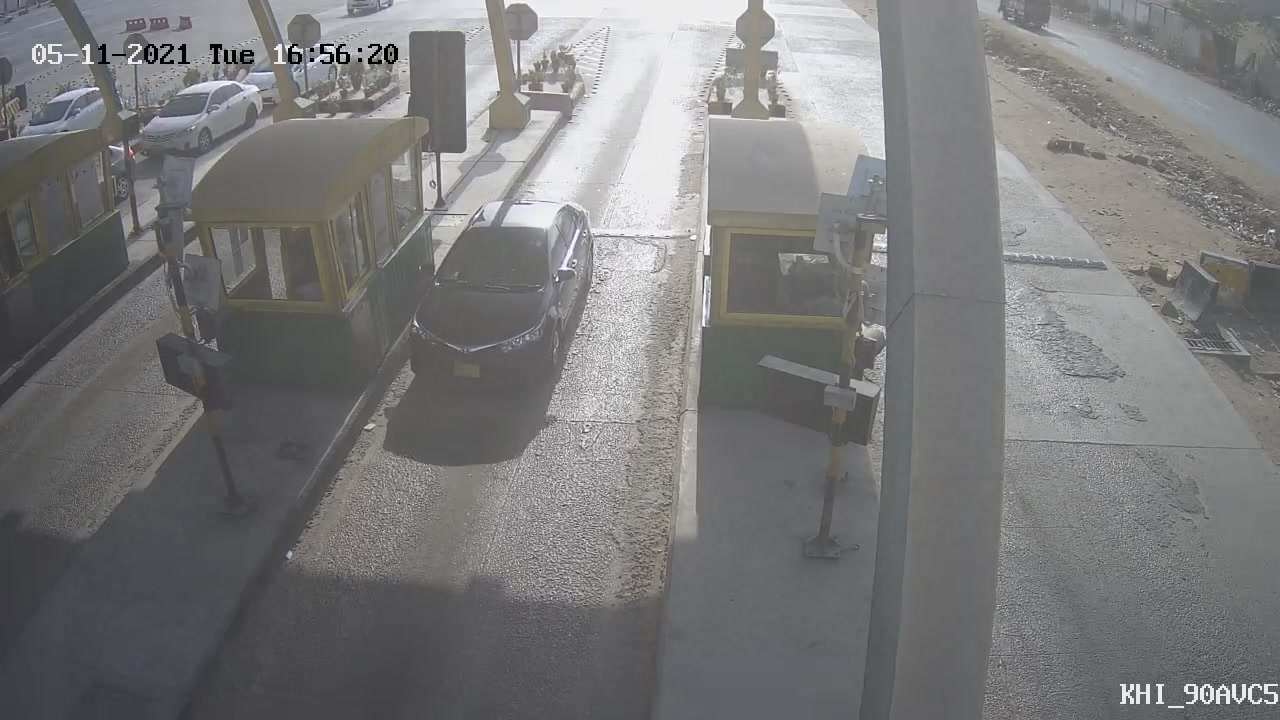F1: (376, 182, 612, 411)
